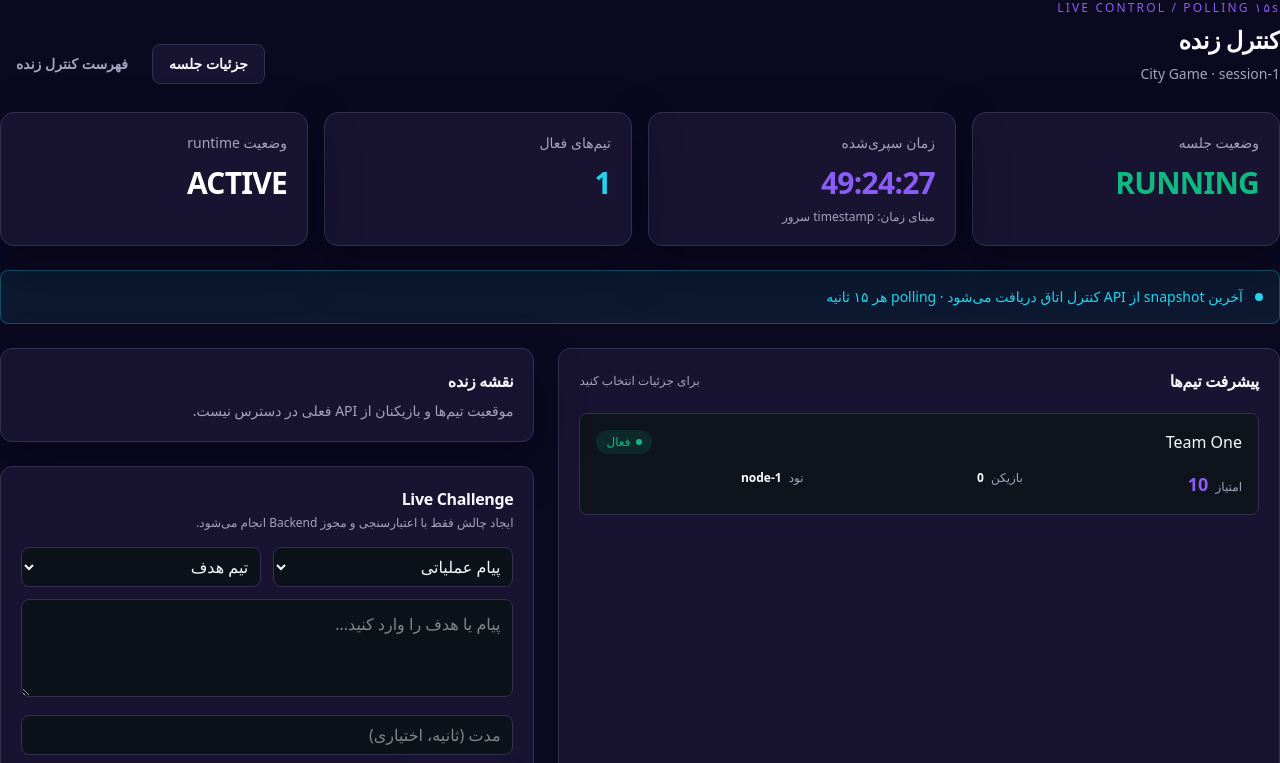
live control room › prevents duplicate challenge submissions while the API request is pending
This screenshot has width=1280, height=763.
expect the text "City Game · session-1" is shown: met, box [1140,64,1279,83]
Select "Team One" in the 1st dropdown at x=141, y=567, box [21,547,261,587]
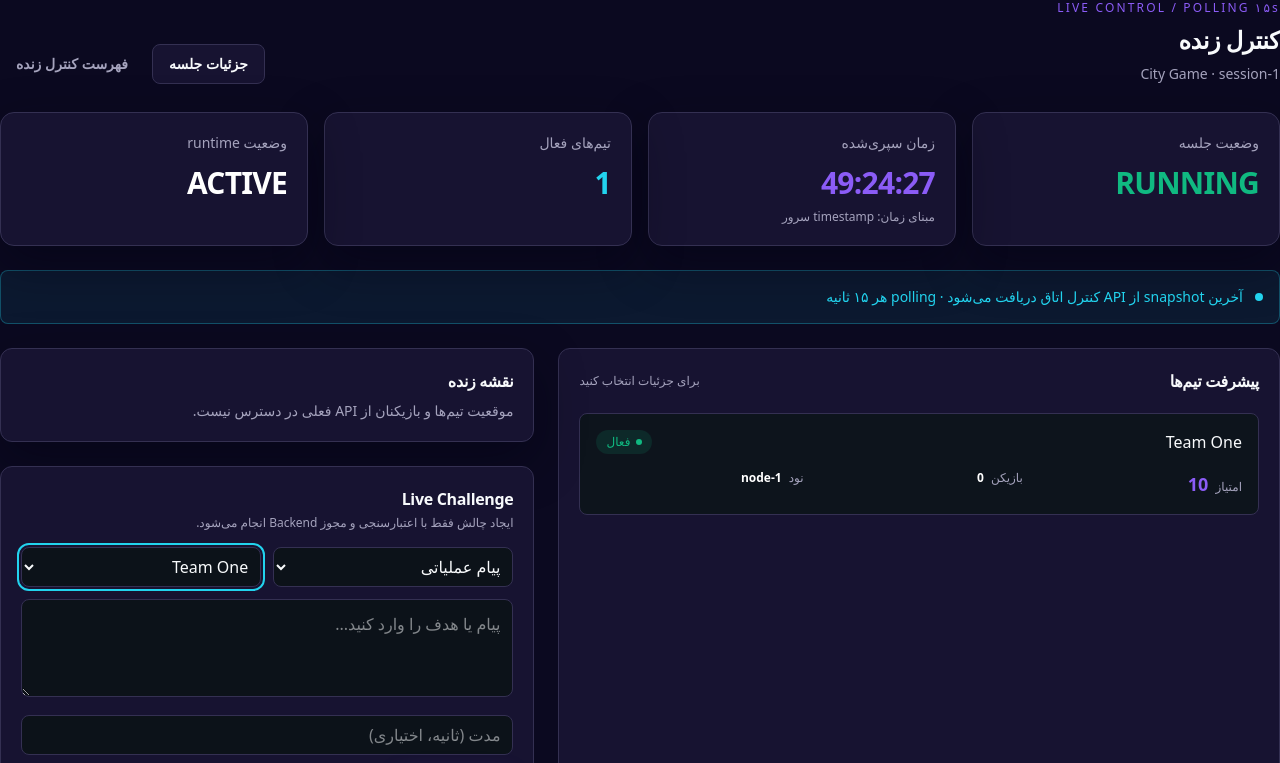
Type "Check point" into the text box with placeholder "پیام یا هدف را وارد کنید..." at x=267, y=648, box [21,599,514,697]
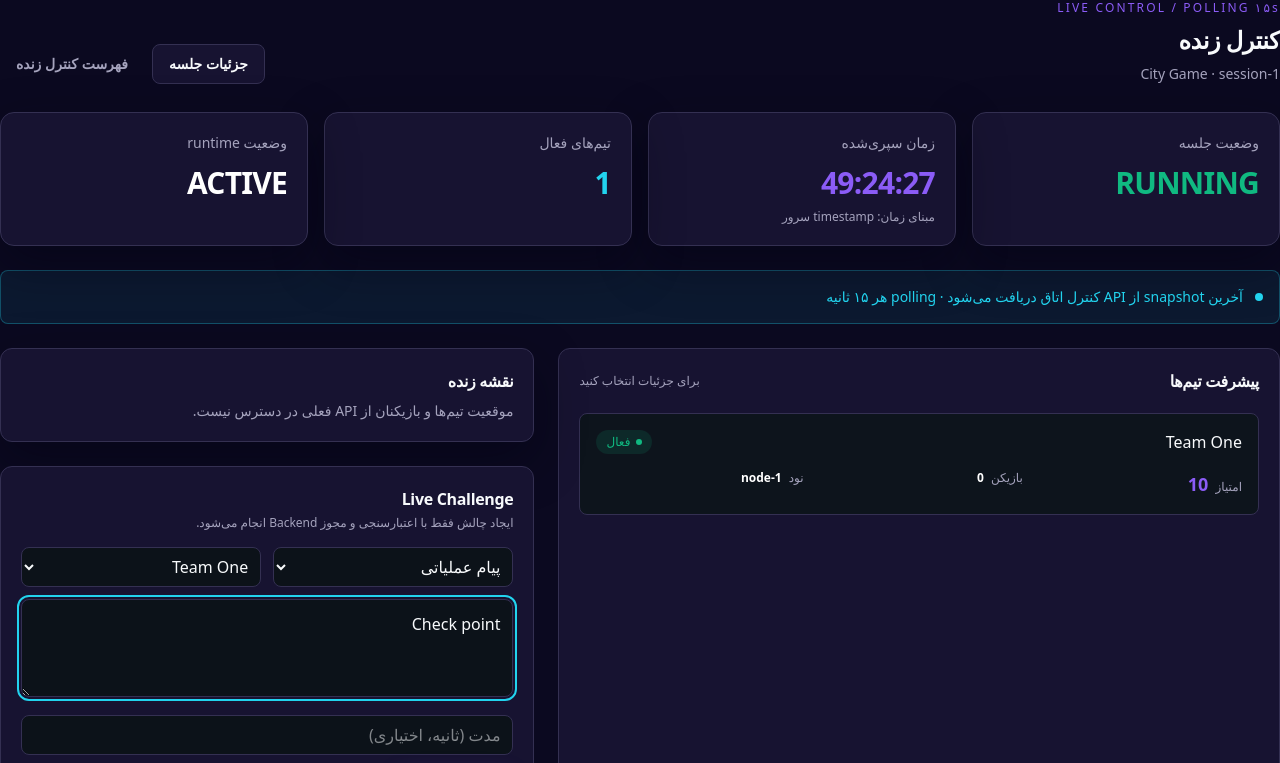
Type "10" into the number field with placeholder "مدت (ثانیه، اختیاری)" at x=267, y=735, box [21,715,514,755]
(page scrolled)
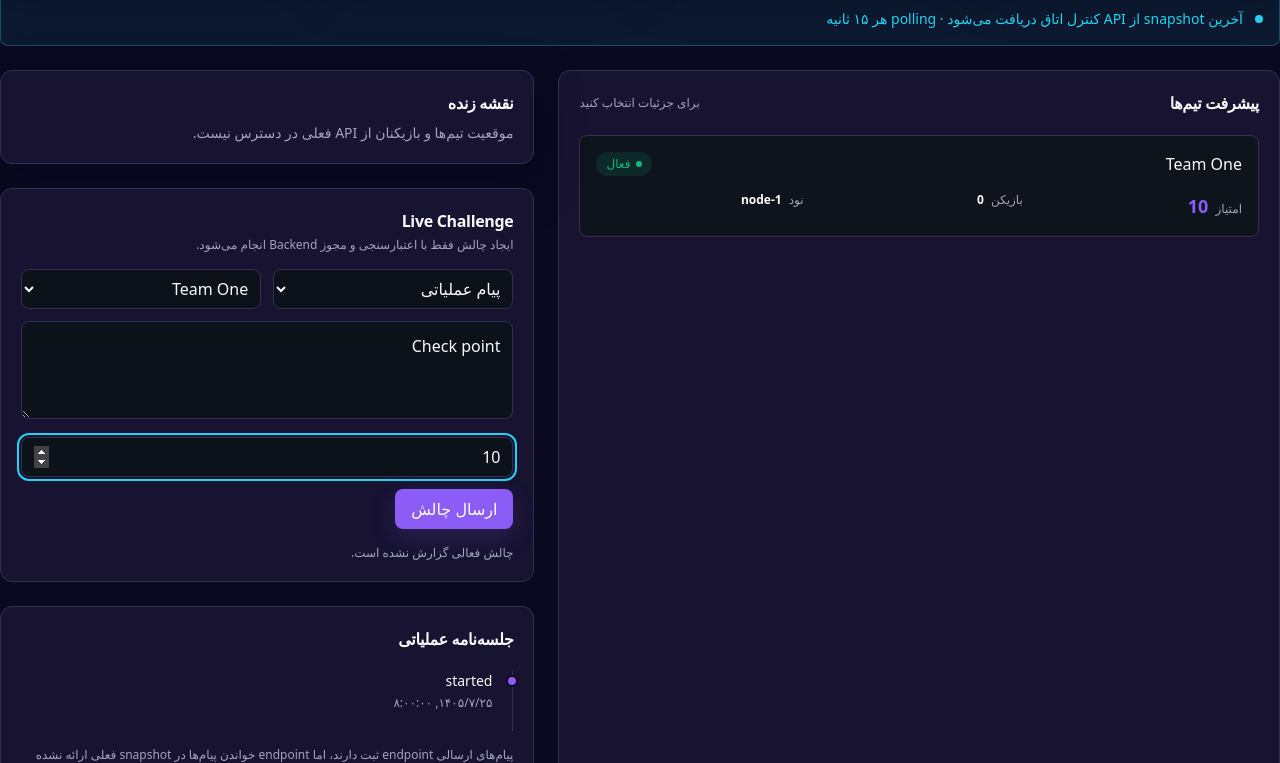
Click the button "ارسال چالش" at x=454, y=509, box [395,489,514,529]
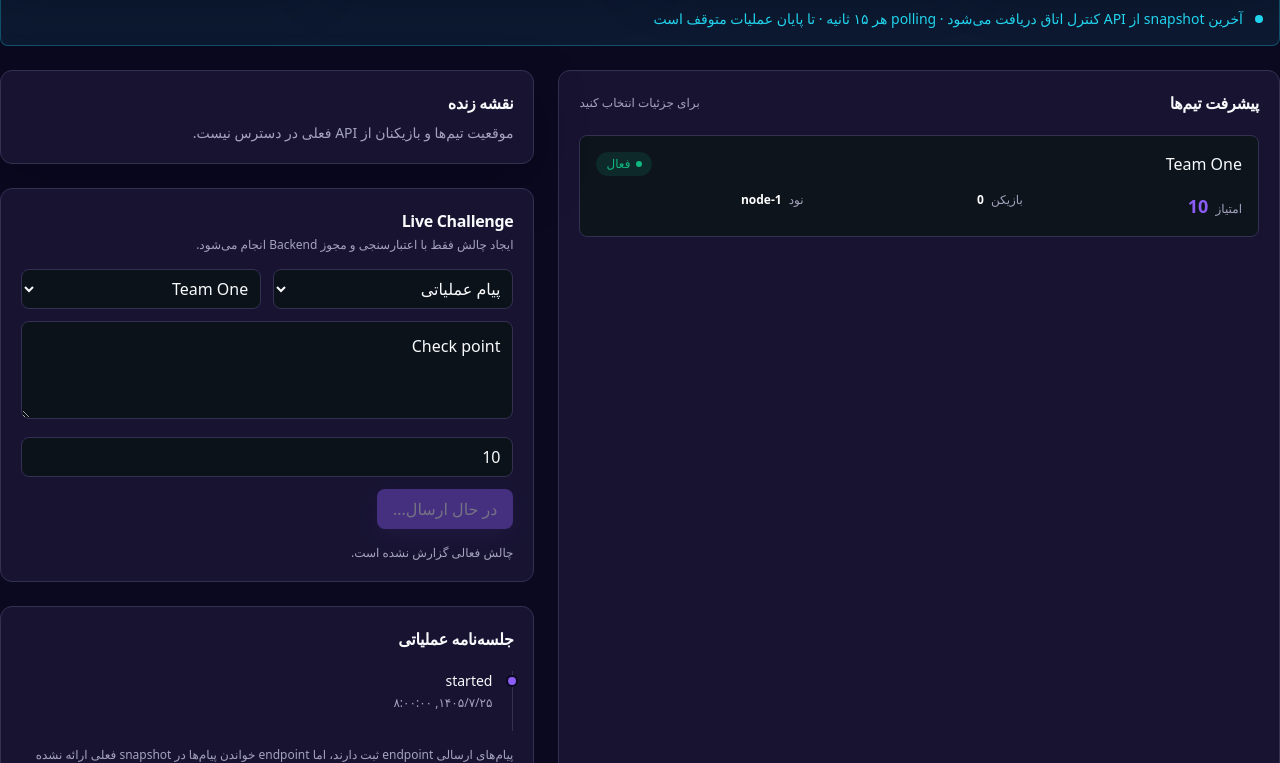
expect the button "در حال ارسال..." is disabled: met, box [377,489,514,529]
